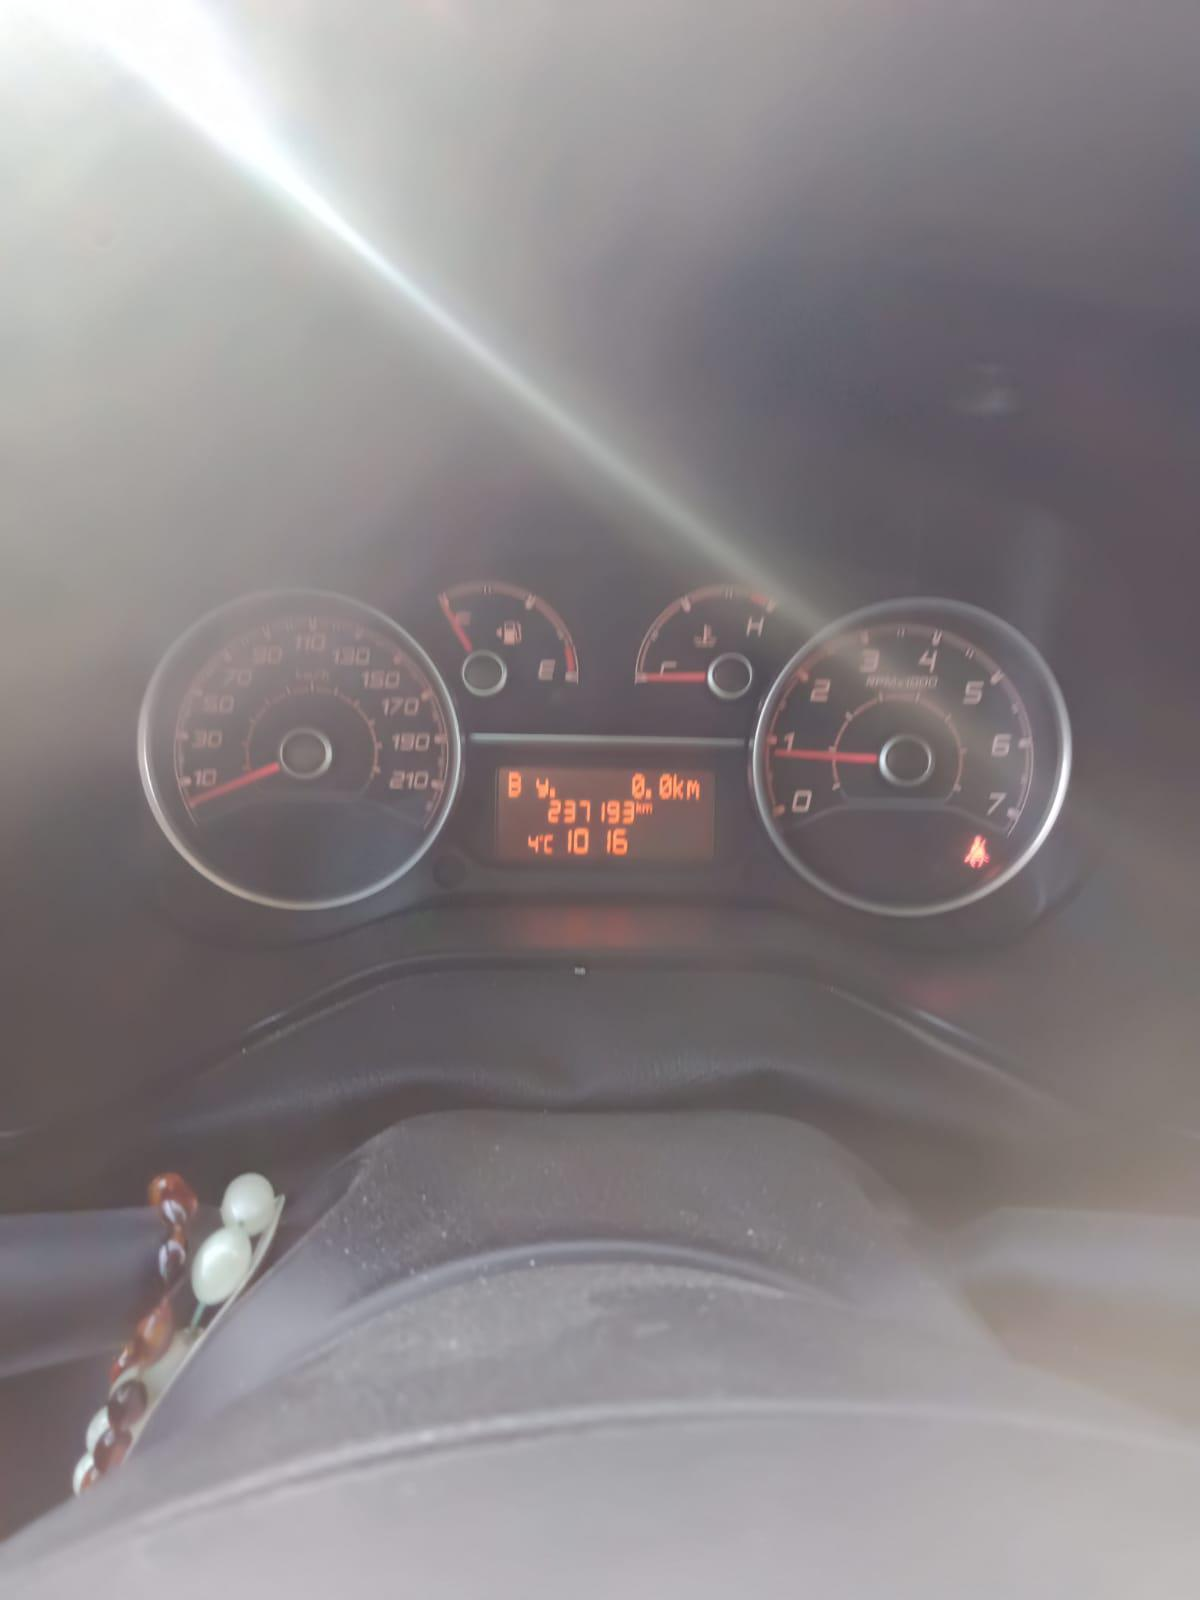,: (645, 787, 652, 799), (548, 787, 555, 797)
0: (574, 826, 589, 855), (658, 772, 672, 800), (632, 774, 645, 799)
1: (566, 828, 572, 854), (605, 828, 611, 854), (600, 801, 605, 823)
2: (547, 799, 561, 823)
3: (621, 800, 634, 824), (563, 800, 576, 823)
4: (527, 834, 538, 855)
6: (613, 828, 628, 855)
7: (579, 799, 591, 823)
9: (606, 800, 620, 824)
X: (508, 771, 522, 797), (672, 772, 684, 800), (684, 779, 700, 801), (534, 777, 550, 799), (543, 833, 555, 854), (643, 803, 653, 816), (635, 801, 643, 815)
odometer: (493, 765, 717, 866)
